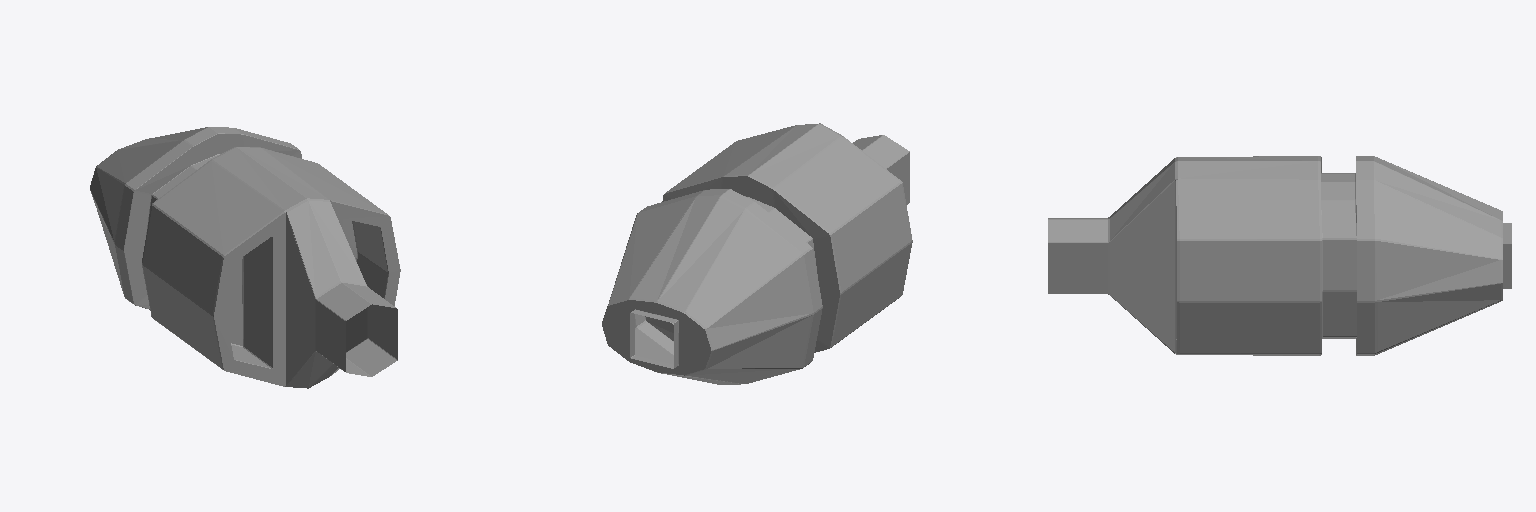
The model's file is EngineMiddle02.obj.
The picture shows the model from 3 angles: view 1: azimuth 30°, elevation 25°; view 2: azimuth 150°, elevation 25°; view 3: azimuth 270°, elevation 25°; orthographic projection.
Parts seen in each view (by area): view 1: EngineBody02_Cylinder.001; view 2: EngineBody02_Cylinder.001; view 3: EngineBody02_Cylinder.001.
Part boxes in pixels (x1,y1,x2,y2): EngineBody02_Cylinder.001: (90,127,400,388); EngineBody02_Cylinder.001: (602,123,912,384); EngineBody02_Cylinder.001: (1048,156,1511,355).
Size of the model in its own units: 1.7 by 1.65 by 3.65.